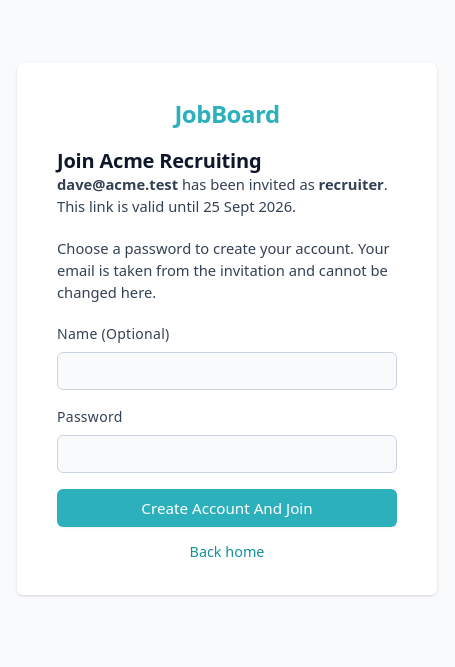
Test: signed out: accepting also creates the account › sends an already-registered address to sign in rather than taking a password
Type "Password123" into the password field labelled "password". click: (227, 454)
box: [57,435,397,473]
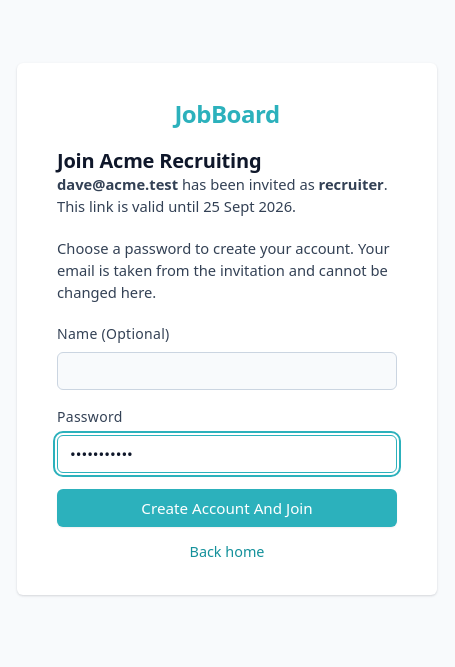
Click the button "create account and join". click: (227, 508)
box: [57,489,397,527]
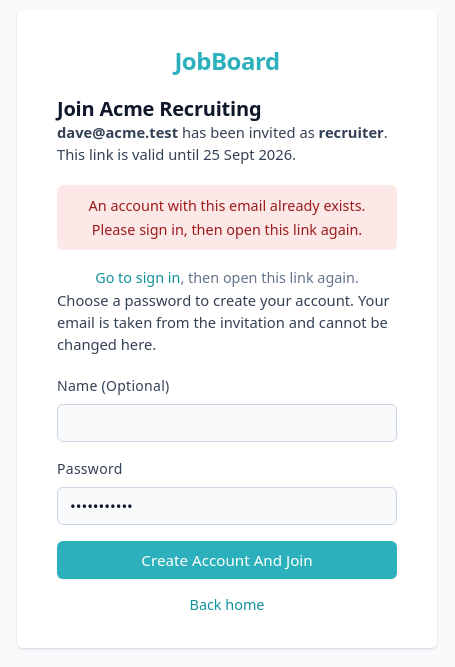
Now the message shows "already exists", box [89,196,365,238]
